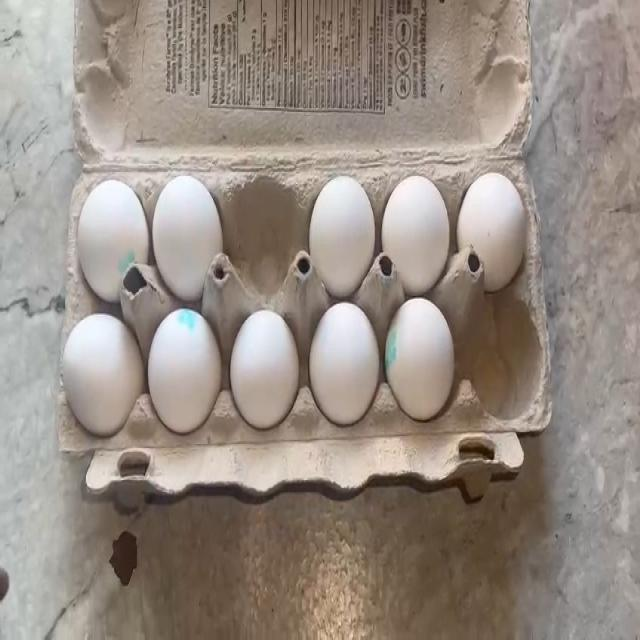Egg: (66, 311, 142, 421), (315, 302, 381, 418), (69, 172, 142, 274), (234, 315, 302, 422), (153, 320, 219, 430), (457, 167, 525, 266), (390, 300, 452, 400), (160, 178, 220, 274), (388, 176, 444, 273), (319, 186, 373, 279)
